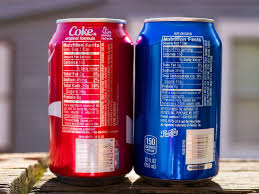Coca-Cola: (42, 23, 131, 179)
Pepsi: (136, 19, 224, 175)
